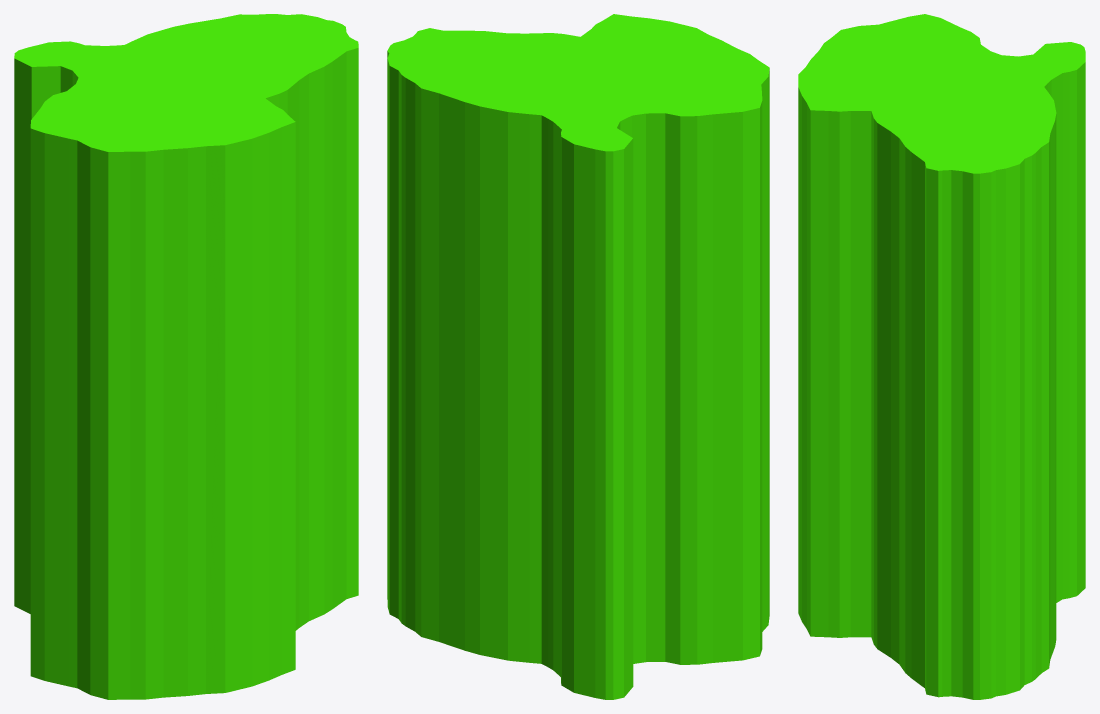
File: forest03.dae
3 renders of one model, left to right at view 1: azimuth 30°, elevation 25°; view 2: azimuth 150°, elevation 25°; view 3: azimuth 270°, elevation 25°, orthographic. The views are drawn at different scales.
Parts seen in each view (by area): view 1: Object_017; view 2: Object_017; view 3: Object_017.
Part boxes in pixels (x1,y1,x2,y2): Object_017: (14, 14, 358, 699); Object_017: (387, 14, 769, 699); Object_017: (798, 14, 1085, 699).
Bounding box in the file's own units: 2.63 × 2 × 4.04.
